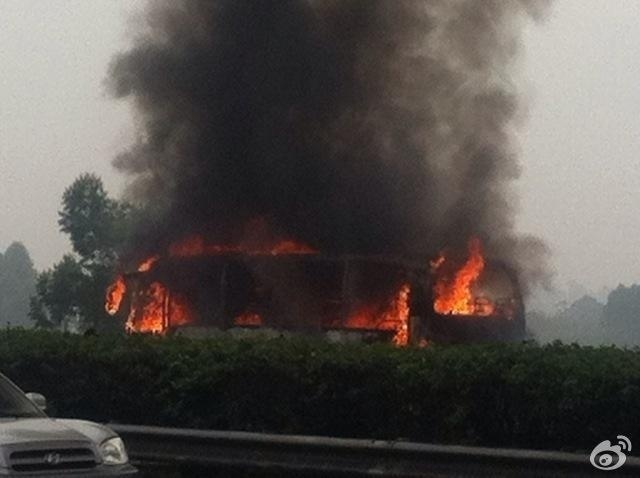fire: (370, 238, 494, 341), (105, 250, 195, 336), (430, 238, 498, 317)
